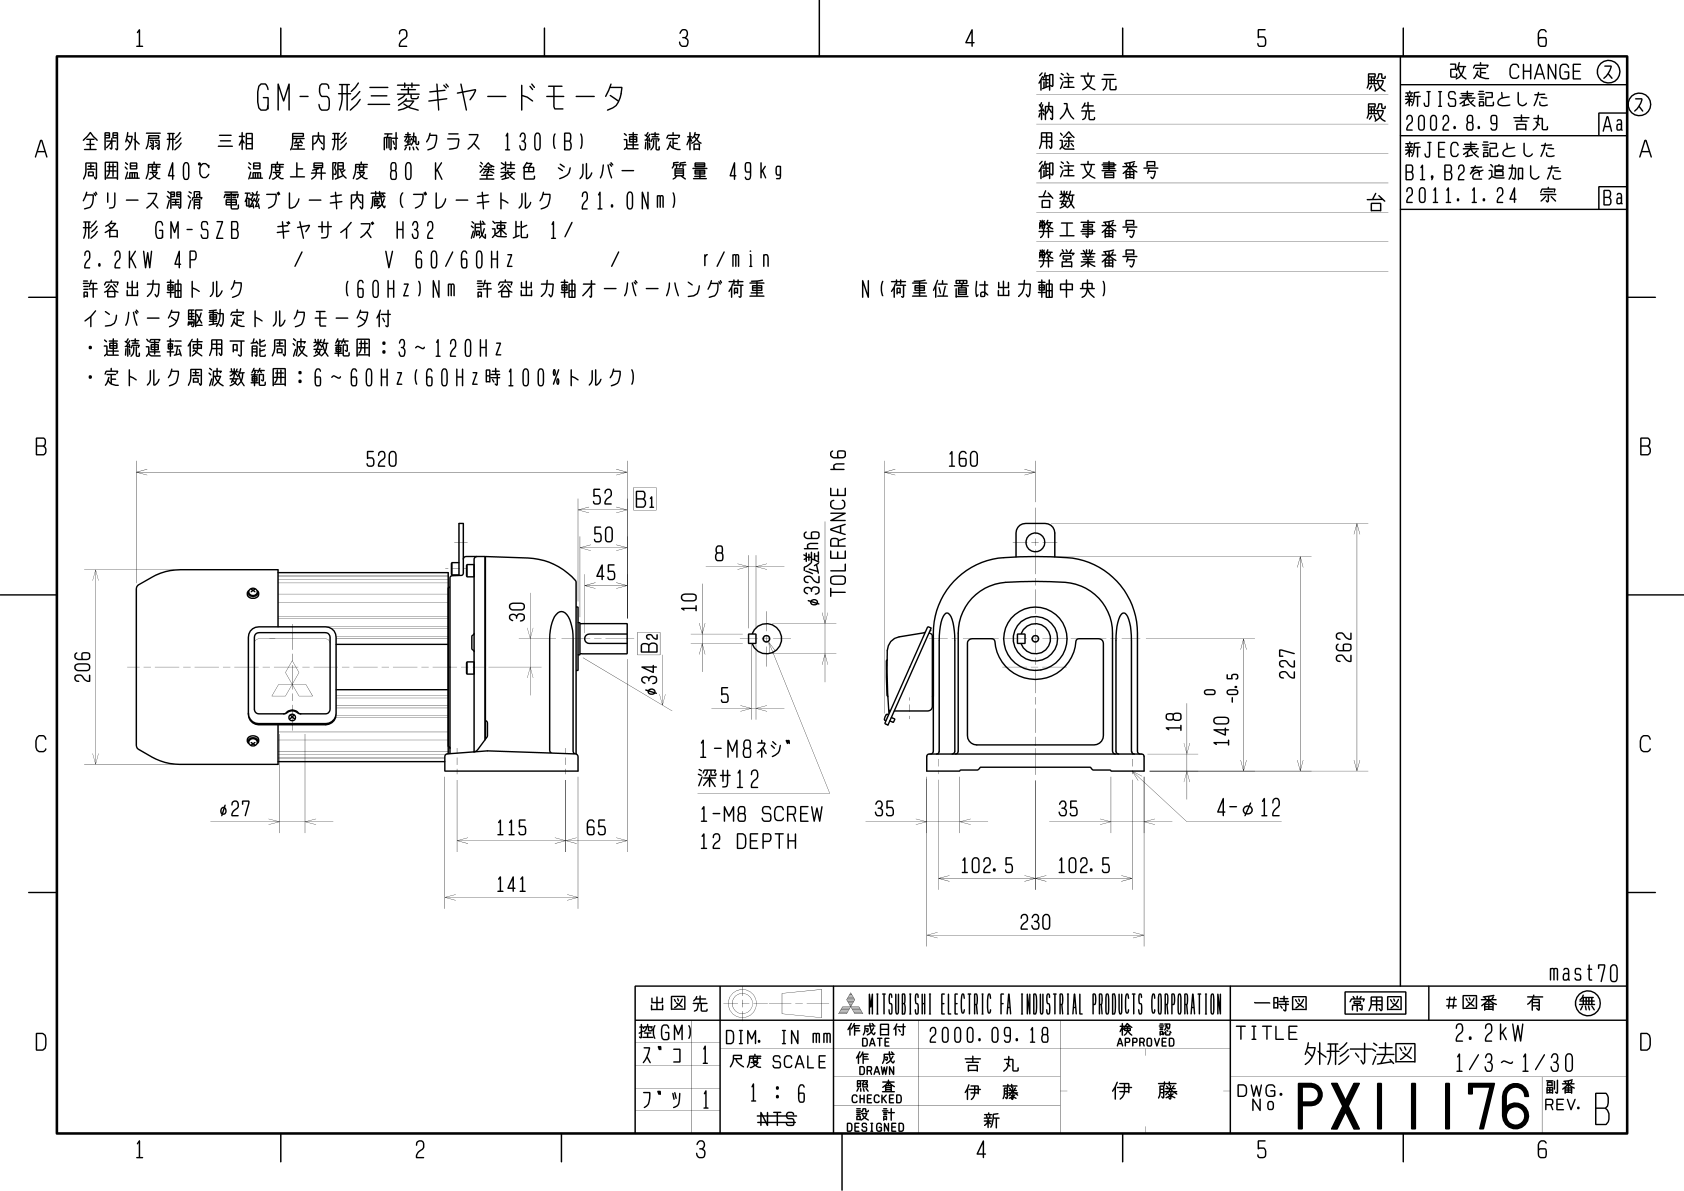GM_S_インバタ屋内＿三相_脚: (4, 6, 1684, 1191)
